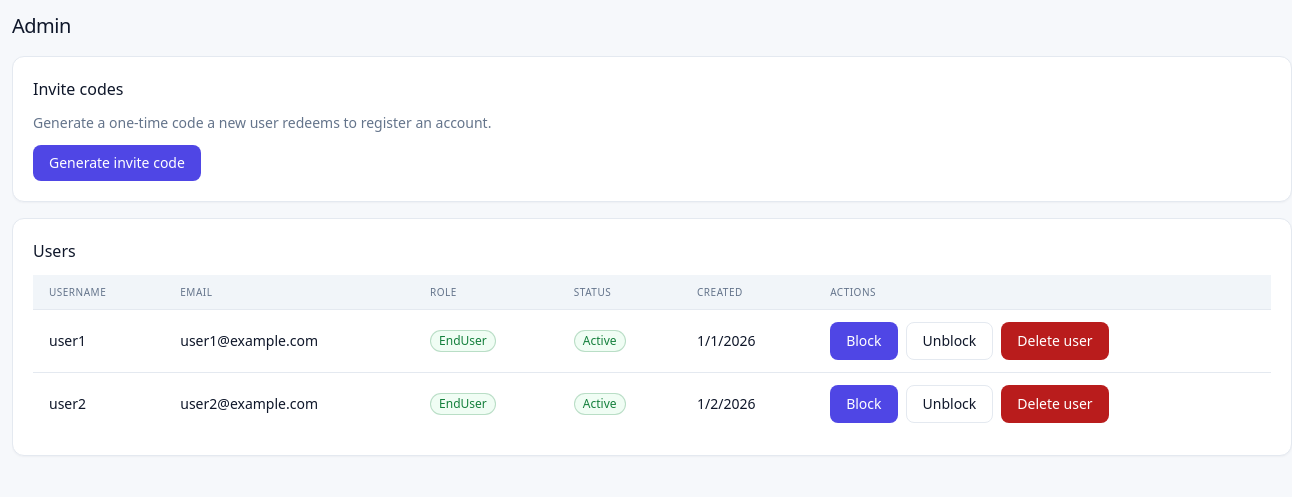
Scenario: AdminPage › does not let one row's result leak onto another
Expected: the text "user1" is shown, [33,310,164,373]
Click the button "Block" in the row of "user1@example.com" at (864, 341), box [830,322,898,360]
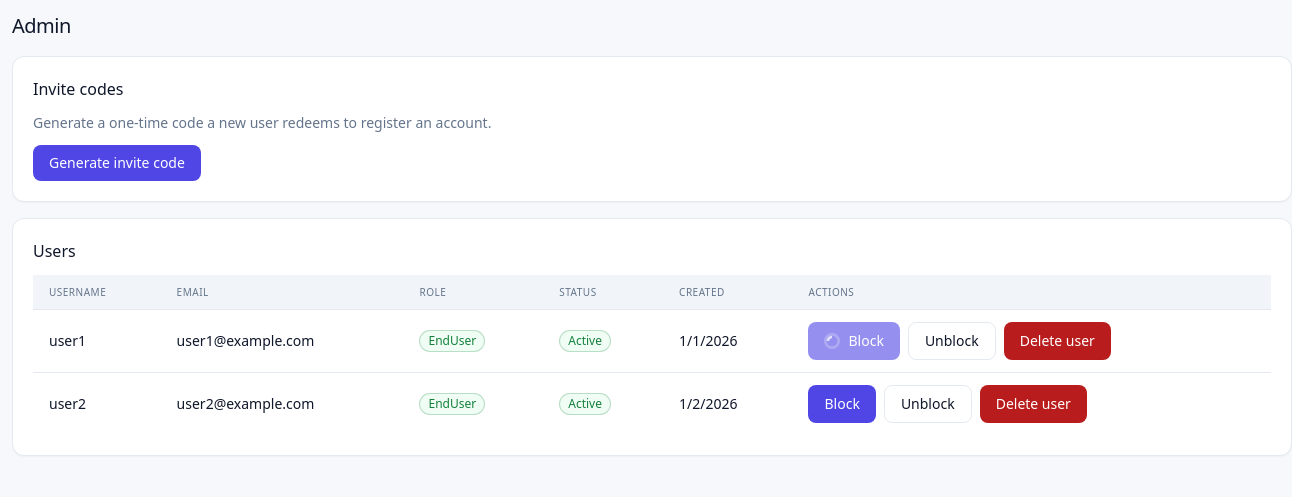
Click the button "Block" in the row of "user2@example.com" at (842, 404), box [808,385,876,423]
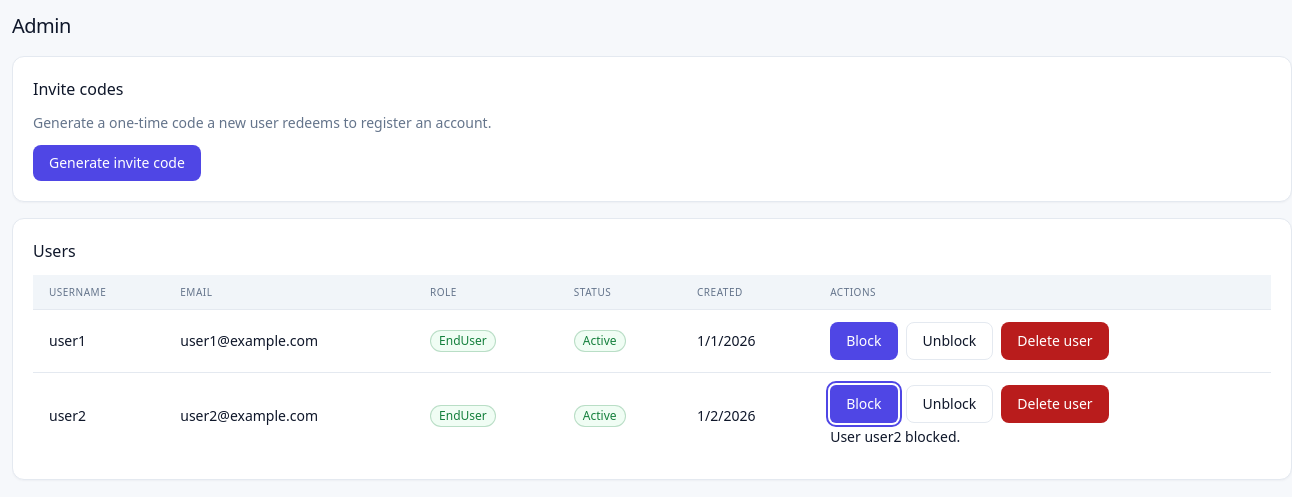
Result: the text "User user2 blocked." is shown at [830,427,960,446]
